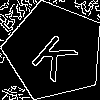K: (29, 26, 85, 82)
